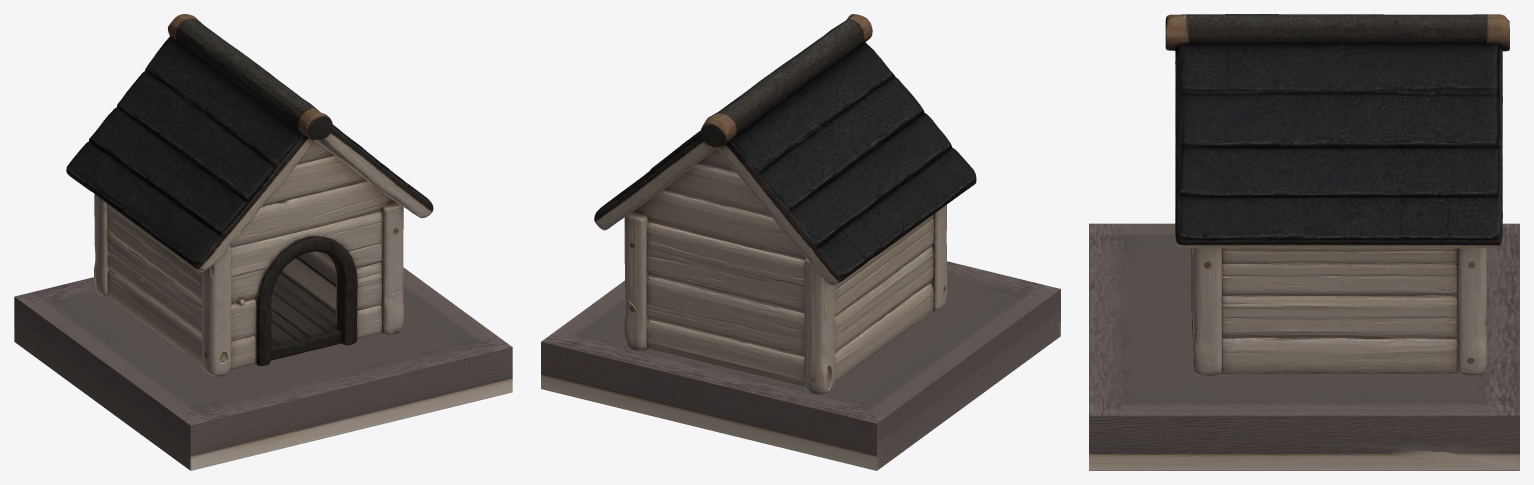
The model's file is DOM_budka_7__white.glb.
3 views of the same model, side by side, from view 1: azimuth 30°, elevation 25°; view 2: azimuth 150°, elevation 25°; view 3: azimuth 270°, elevation 25° (orthographic). The views are drawn at different scales.
Parts seen in each view (by area): view 1: tripo_node_12152d5f-ba4f-4488-aab8-28f63a66d37c, Cube; view 2: tripo_node_12152d5f-ba4f-4488-aab8-28f63a66d37c, Cube; view 3: tripo_node_12152d5f-ba4f-4488-aab8-28f63a66d37c, Cube.
Boxes of the visible parts, x1,y1,x2,y2 form: tripo_node_12152d5f-ba4f-4488-aab8-28f63a66d37c: (66, 14, 433, 376); Cube: (14, 267, 512, 470); tripo_node_12152d5f-ba4f-4488-aab8-28f63a66d37c: (594, 14, 976, 394); Cube: (541, 261, 1060, 470); tripo_node_12152d5f-ba4f-4488-aab8-28f63a66d37c: (1165, 14, 1509, 376); Cube: (1089, 223, 1519, 470).
Size of the model in its own units: 3.3 by 2.88 by 3.13.
Materials: 2 (2 with a texture image).
